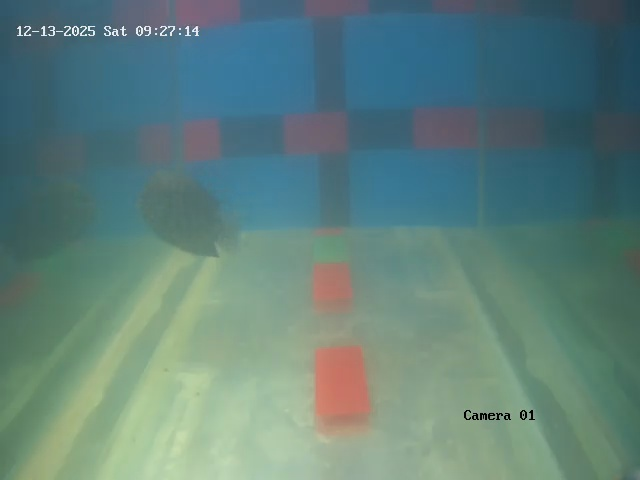fish: (134, 174, 249, 260)
